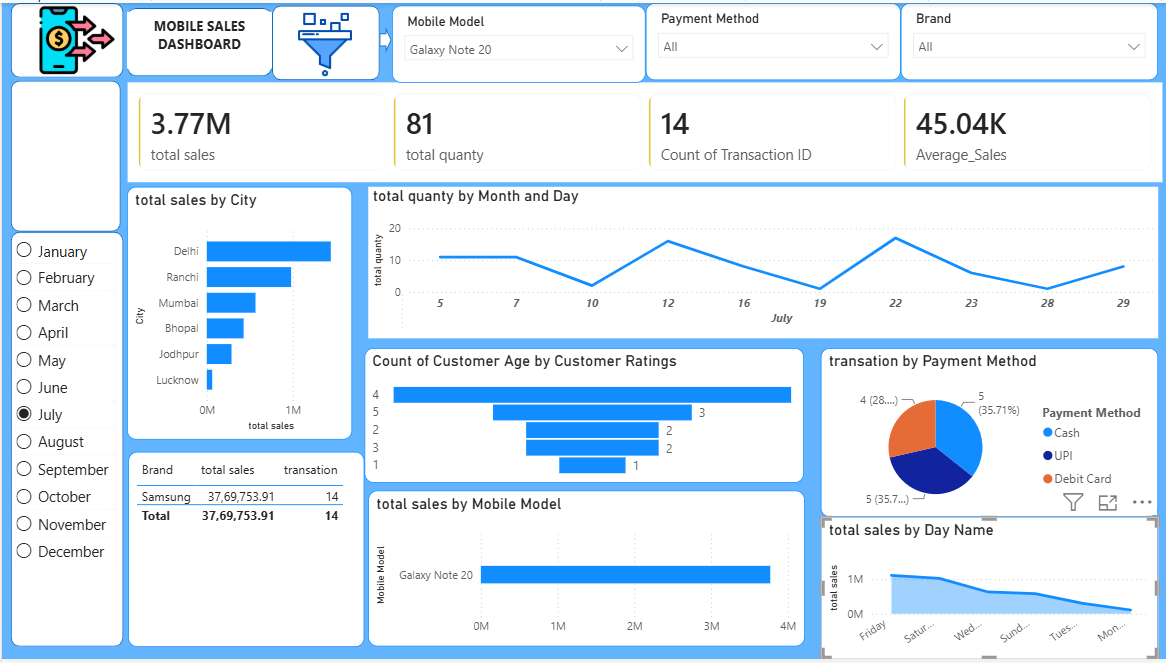

The dashboard page shown, as its layout file describes it:
{"tool":"powerbi","page":{"name":"Dashboard","canvas":[1280,720],"ordinal":0},"visuals":[{"type":"shape","box":[9.7,0,123.6,81.9],"z":0},{"type":"image","box":[31.9,0,101.4,81.9],"z":1000},{"type":"shape","box":[9.6,85.1,120.8,166],"z":2000},{"type":"shape","box":[9.7,250.9,123.6,455.6],"z":3000},{"type":"listSlicer","fields":{"Values":["Costom_Calendar.Date.Variation.Date Hierarchy.Month"]},"box":[9.6,251.1,120.8,455.6],"z":4000},{"type":"cardVisual","fields":{"Data":["Mobile Sales data.total sales","Mobile Sales data.total quanty","CountNonNull(Mobile Sales data.Transaction ID)","Mobile Sales data.Average_Sales"]},"box":[132.7,82,1147.3,119.4],"z":5000},{"type":"slicer","fields":{"Values":["Mobile Sales data.Mobile Model"]},"box":[428.1,2.7,278.7,84.5],"z":6000},{"type":"slicer","fields":{"Values":["Mobile Sales data.Payment Method"]},"box":[707,0,279.9,84.5],"z":7000},{"type":"slicer","fields":{"Values":["Mobile Sales data.Brand"]},"box":[986.9,0,282.3,84.5],"z":8000},{"type":"shape","box":[296.8,2.4,118.2,82],"z":9000},{"type":"image","box":[305.2,9.7,100.1,72.4],"z":10000},{"type":"shape","box":[415,26.5,13.3,29],"z":11000},{"type":"shape","box":[137.5,4.8,159.3,74.8],"z":12000},{"type":"textbox","box":[137.5,9.7,159.3,62.7],"z":13000},{"type":"barChart","fields":{"Category":["Mobile Sales data.City"],"Y":["Mobile Sales data.total sales"]},"box":[137.5,201.5,247.3,277.5],"z":14000},{"type":"lineChart","fields":{"Category":["Costom_Calendar.Date.Variation.Date Hierarchy.Month","Costom_Calendar.Date.Variation.Date Hierarchy.Day"],"Y":["Mobile Sales data.total quanty"]},"box":[401.7,201.5,867.4,166.5],"z":15000},{"type":"funnel","fields":{"Category":["Mobile Sales data.Customer Ratings"],"Y":["CountNonNull(Mobile Sales data.Customer Age)"]},"box":[397.9,378.7,482.6,148.4],"z":16000},{"type":"pieChart","fields":{"Category":["Mobile Sales data.Payment Method"],"Y":["Mobile Sales data.transation"]},"box":[898.8,378.8,370.4,185.8],"z":17000},{"type":"barChart","fields":{"Category":["Mobile Sales data.Mobile Model"],"Y":["Mobile Sales data.total sales"]},"box":[402.1,535.2,478.9,171.5],"z":18000},{"type":"stackedAreaChart","fields":{"Category":["Costom_Calendar.Day Name"],"Y":["Mobile Sales data.total sales"]},"box":[898.8,564,370.5,156.4],"z":19000},{"type":"tableEx","fields":{"Values":["Mobile Sales data.Brand","Mobile Sales data.total sales","Mobile Sales data.transation"]},"box":[138.6,492.6,259.3,214.1],"z":20000}]}

Visuals, with their boxes in screenshot pixels (x1, y1, x2, y2), scaled from the page's 1280x720 canvas onto the 1166x663 screenshot:
shape: box=[9, 0, 121, 75]
image: box=[29, 0, 121, 75]
shape: box=[9, 78, 119, 231]
shape: box=[9, 231, 121, 651]
listSlicer - Costom_Calendar.Date.Variation.Date Hierarchy.Month: box=[9, 231, 119, 651]
cardVisual - Mobile Sales data.total sales x Mobile Sales data.total quanty: box=[121, 76, 1165, 185]
slicer - Mobile Sales data.Mobile Model: box=[390, 2, 644, 80]
slicer - Mobile Sales data.Payment Method: box=[644, 0, 899, 78]
slicer - Mobile Sales data.Brand: box=[899, 0, 1156, 78]
shape: box=[270, 2, 378, 78]
image: box=[278, 9, 369, 76]
shape: box=[378, 24, 390, 51]
shape: box=[125, 4, 270, 73]
textbox: box=[125, 9, 270, 67]
barChart - Mobile Sales data.City x Mobile Sales data.total sales: box=[125, 186, 351, 441]
lineChart - Costom_Calendar.Date.Variation.Date Hierarchy.Month x Costom_Calendar.Date.Variation.Date Hierarchy.Day: box=[366, 186, 1156, 339]
funnel - Mobile Sales data.Customer Ratings x CountNonNull(Mobile Sales data.Customer Age): box=[362, 349, 802, 485]
pieChart - Mobile Sales data.Payment Method x Mobile Sales data.transation: box=[819, 349, 1156, 520]
barChart - Mobile Sales data.Mobile Model x Mobile Sales data.total sales: box=[366, 493, 803, 651]
stackedAreaChart - Costom_Calendar.Day Name x Mobile Sales data.total sales: box=[819, 519, 1156, 662]
tableEx - Mobile Sales data.Brand x Mobile Sales data.total sales: box=[126, 454, 362, 651]
